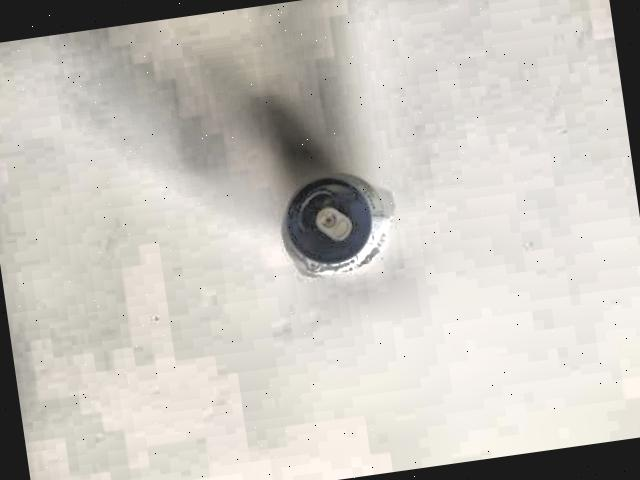Bottles: (244, 156, 406, 328)
